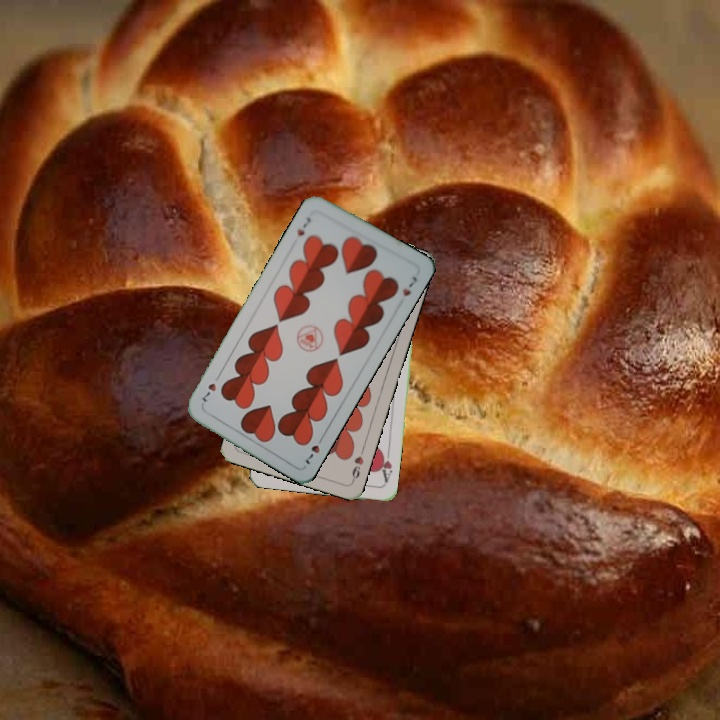H7: (301, 431, 327, 467), (293, 213, 313, 239)
H9: (348, 445, 367, 484)
HA: (375, 446, 394, 486)
